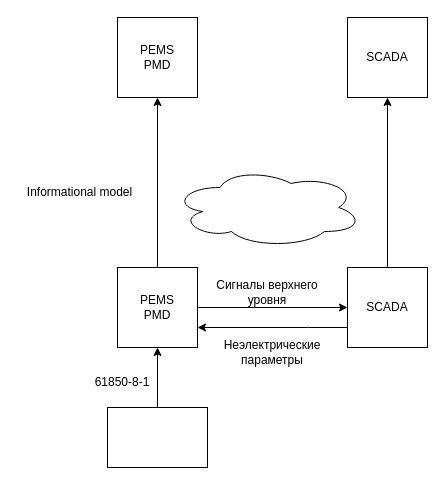
This 445x485 diagram has some shape labels left out. Each missing label, with the centre of its shape:
Primary equipment + сигналы верхнего уровня: pixel 267 207
Relay protection terminal (+special report for PEMS, PMD): pixel 157 437
